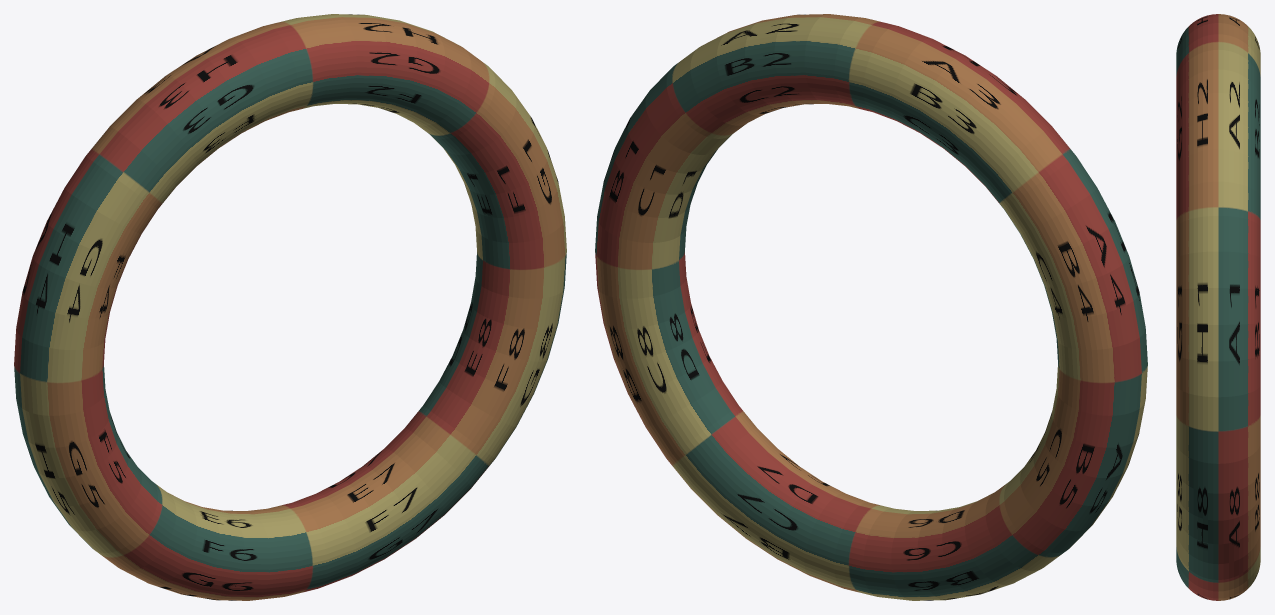
Rendered from texture_torus_R29_r11.glb.
3 renders of one model, left to right at view 1: azimuth 30°, elevation 25°; view 2: azimuth 150°, elevation 25°; view 3: azimuth 270°, elevation 25°, orthographic. The views are drawn at different scales.
Visible parts, largest first — view 1: world; view 2: world; view 3: world.
Boxes of the visible parts, x1,y1,x2,y2 form: world: [14, 14, 566, 600]; world: [595, 14, 1147, 600]; world: [1176, 14, 1260, 600].
Size of the model in its own units: 34.27 by 34.2 by 4.92.
1 material, 1 textured.
